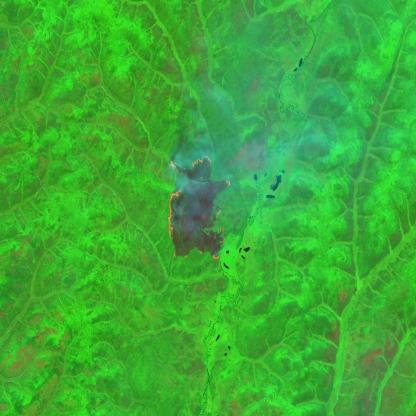fire: (165, 152, 232, 261)
